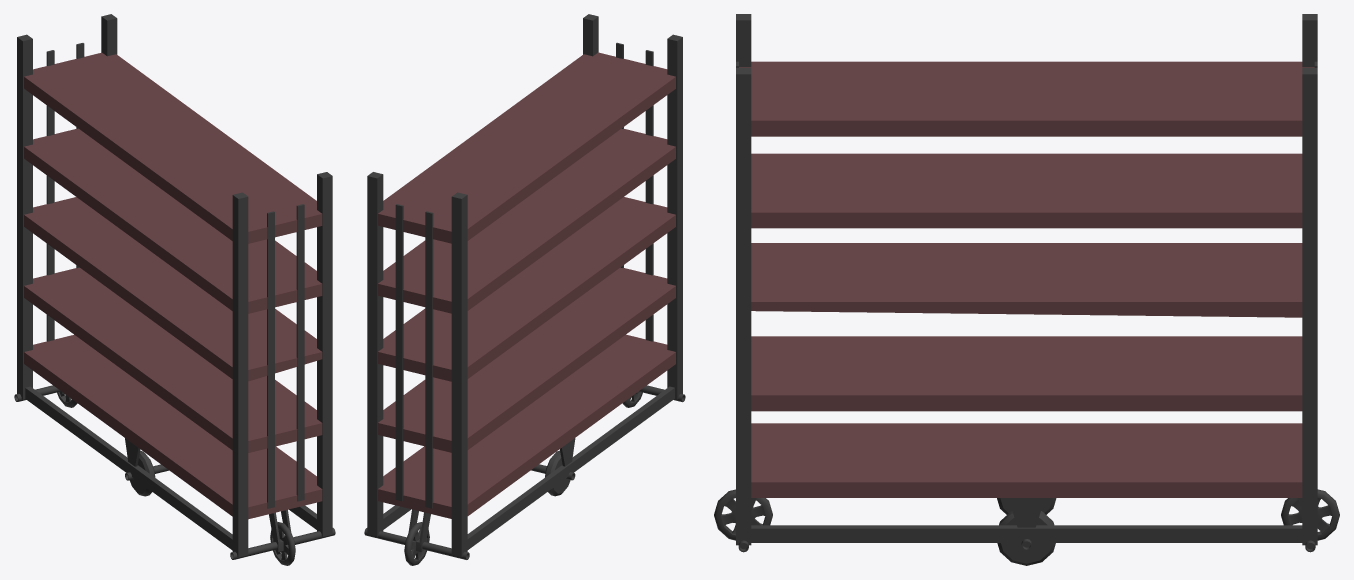
File: moving shelf.fbx
The picture shows the model from 3 angles, left to right: view 1: azimuth 30°, elevation 25°; view 2: azimuth 150°, elevation 25°; view 3: azimuth 270°, elevation 25°; orthographic projection. The views are drawn at different scales.
Visible parts, largest first — view 1: pCylinder9; view 2: pCylinder9; view 3: pCylinder9.
Part boxes in pixels (x1=…): pCylinder9: x1=14, y1=14, x2=335, y2=565; pCylinder9: x1=364, y1=14, x2=685, y2=565; pCylinder9: x1=714, y1=14, x2=1339, y2=565.
Size of the model in its own units: 56.48 by 202 by 230.
